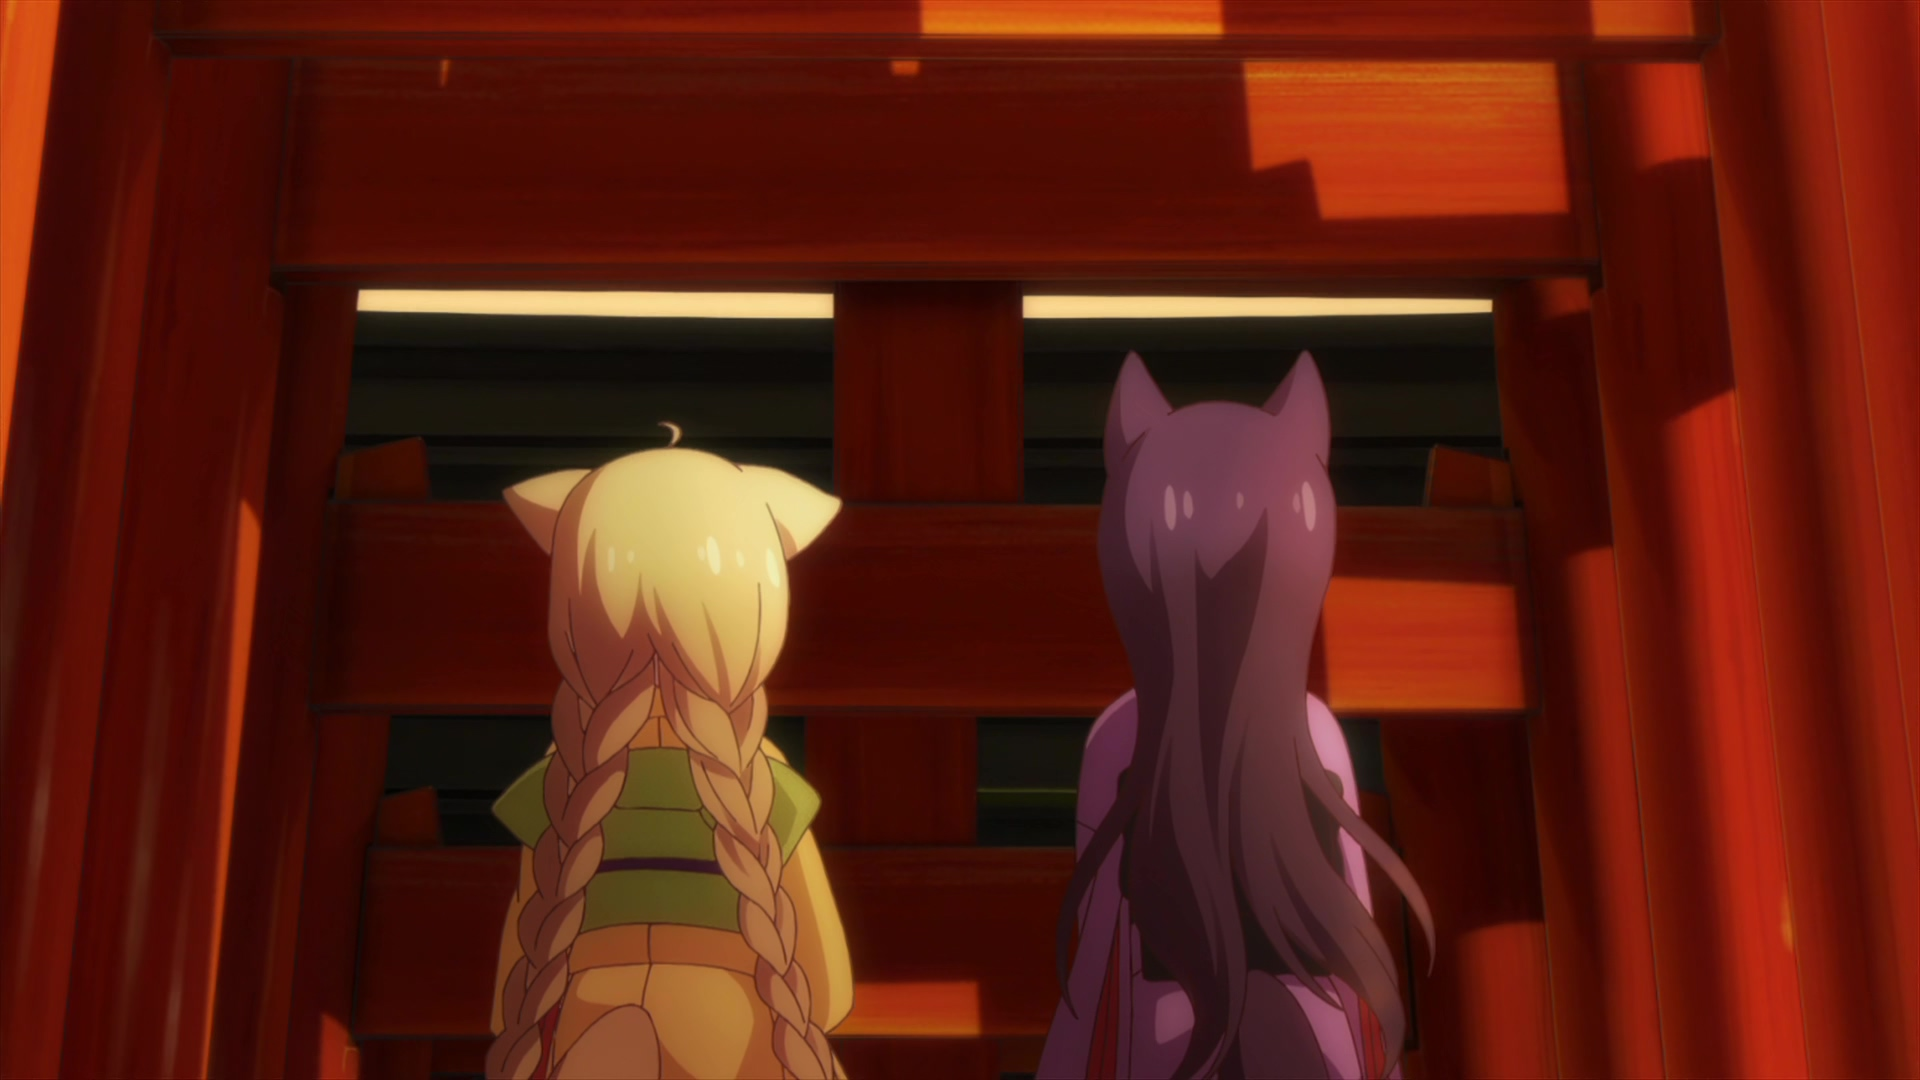柚: (480, 419, 852, 1080)
皋: (1033, 349, 1436, 1080)
